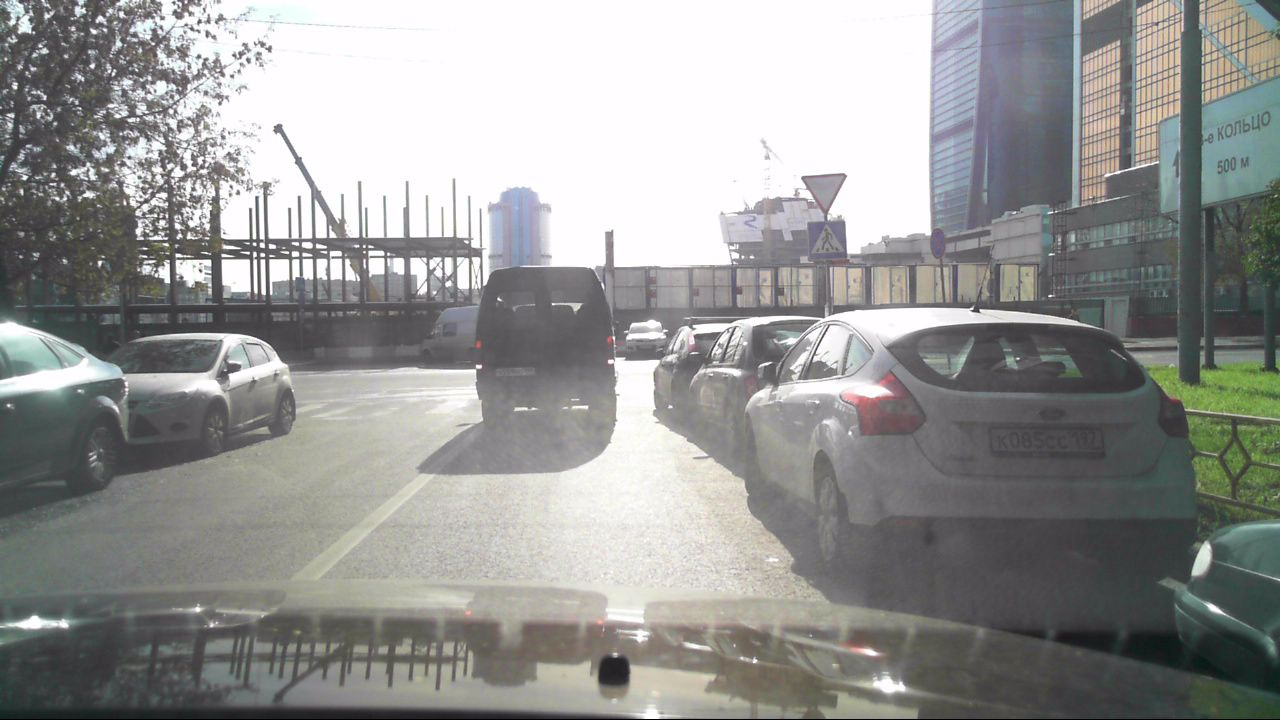No Parking: (929, 229, 950, 261)
